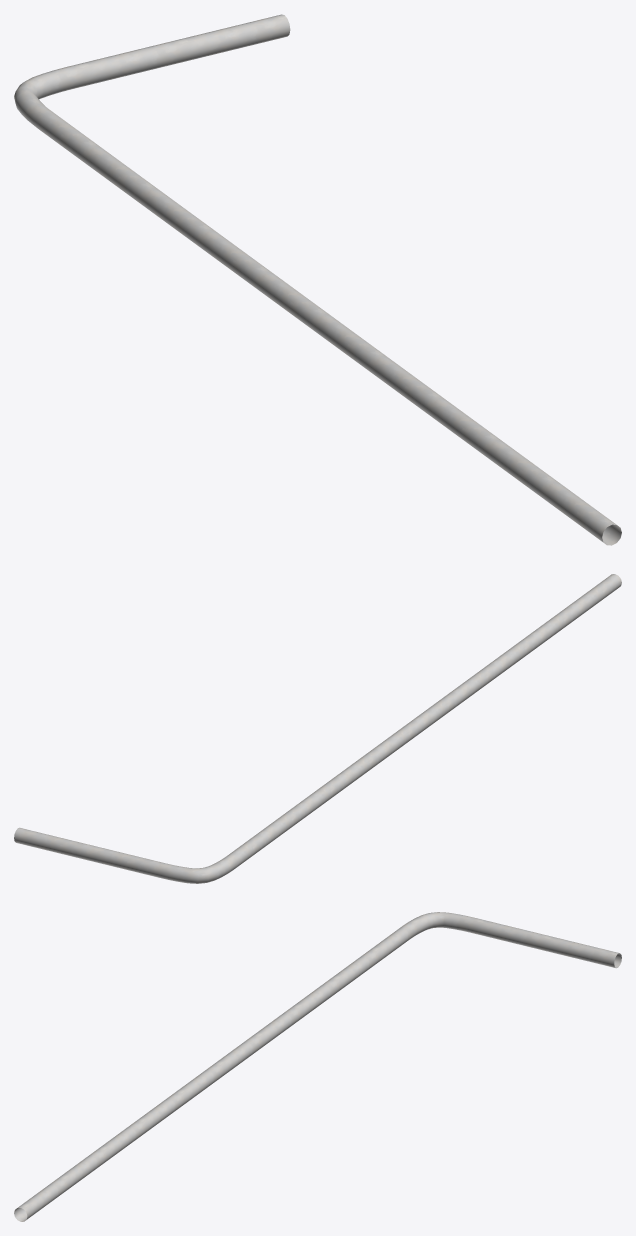
Rendered from Pipe__10.fbx.
The picture shows the model from 3 angles, top to bottom: view 1: azimuth 30°, elevation 25°; view 2: azimuth 150°, elevation 25°; view 3: azimuth 330°, elevation 25°; orthographic projection. The views are drawn at different scales.
Parts seen in each view (by area): view 1: Pipe_Grey; view 2: Pipe_Grey; view 3: Pipe_Grey.
Part boxes in pixels (x1=…): Pipe_Grey: x1=14, y1=14, x2=621, y2=545; Pipe_Grey: x1=14, y1=574, x2=621, y2=883; Pipe_Grey: x1=14, y1=912, x2=621, y2=1221.
Size of the model in its own units: 2.89 by 0.2 by 10.64.
1 material, 1 textured.
